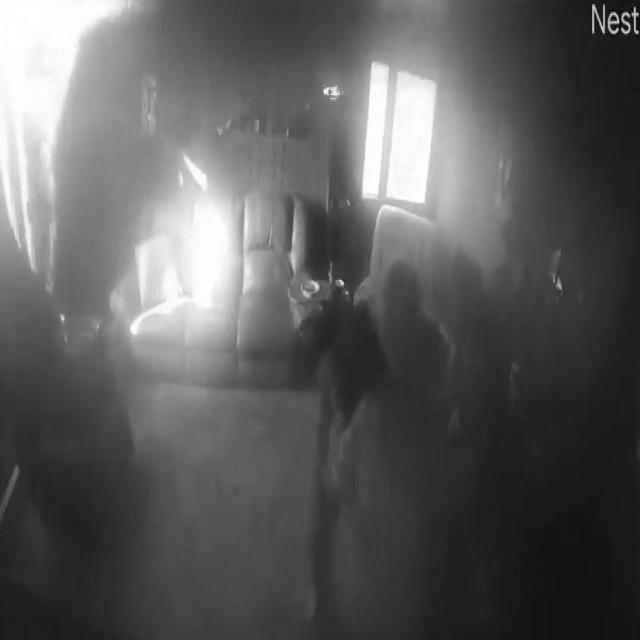smoke: (0, 0, 132, 281)
